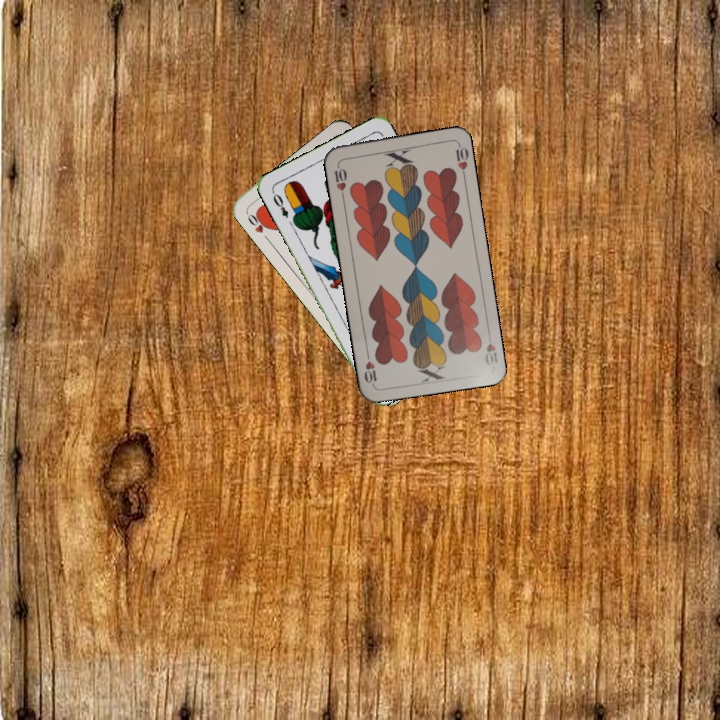EO: (268, 187, 291, 221)
H10: (330, 160, 350, 200), (481, 328, 500, 368)
HO: (243, 208, 272, 243)
